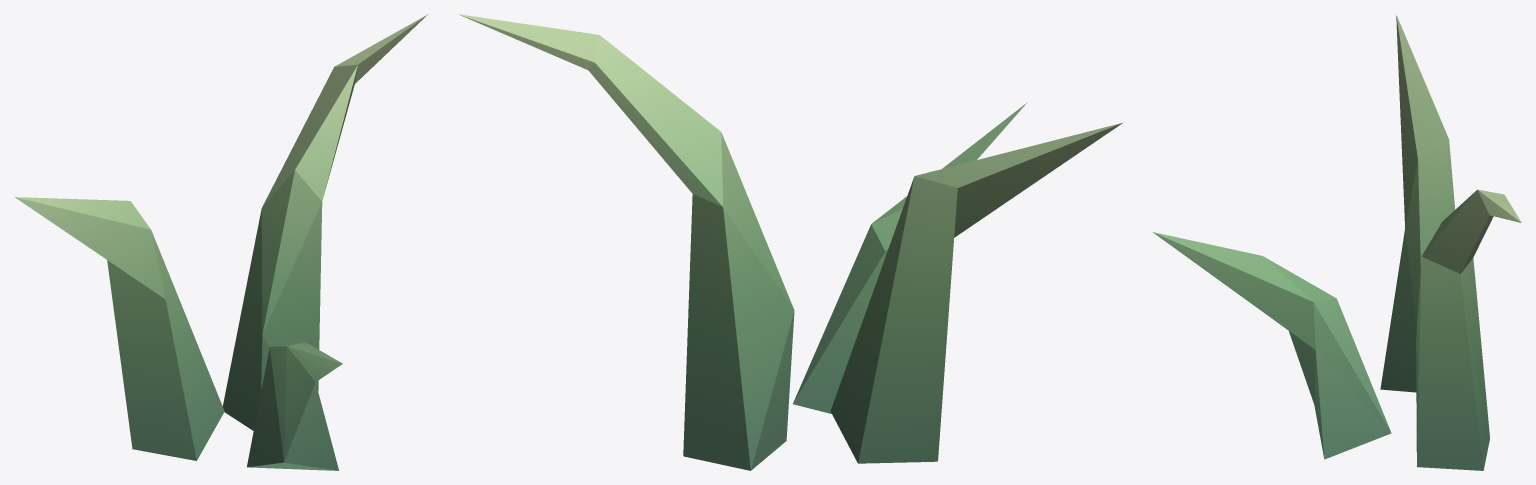
Rendered from GrassMesh.obj.
3 views of the same model, side by side, from view 1: azimuth 30°, elevation 25°; view 2: azimuth 150°, elevation 25°; view 3: azimuth 270°, elevation 25° (orthographic). The views are drawn at different scales.
Visible parts, largest first — view 1: Grass_Cube.001; view 2: Grass_Cube.001; view 3: Grass_Cube.001.
Part boxes in pixels (left/top/right/bottom): Grass_Cube.001: left=14, top=14, right=428, bottom=470; Grass_Cube.001: left=458, top=14, right=1122, bottom=470; Grass_Cube.001: left=1152, top=15, right=1521, bottom=470.
Size of the model in its own units: 0.8573 by 0.5748 by 0.5889.
